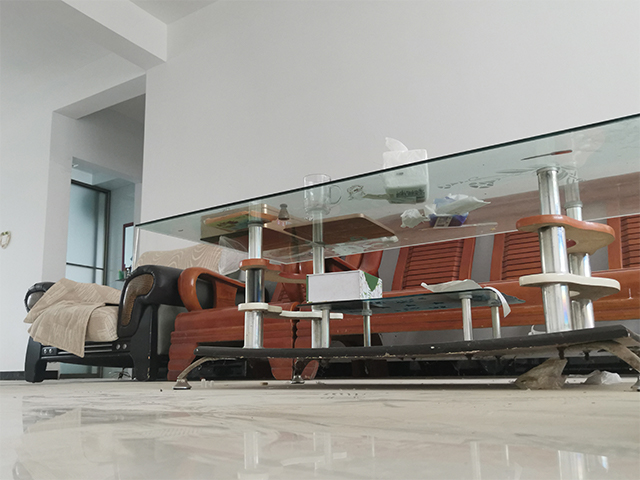sofa: (20, 239, 229, 384)
table: (134, 112, 640, 391)
